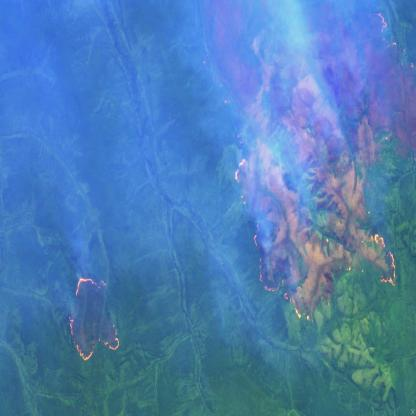fire: (227, 0, 416, 326), (64, 272, 122, 366)
